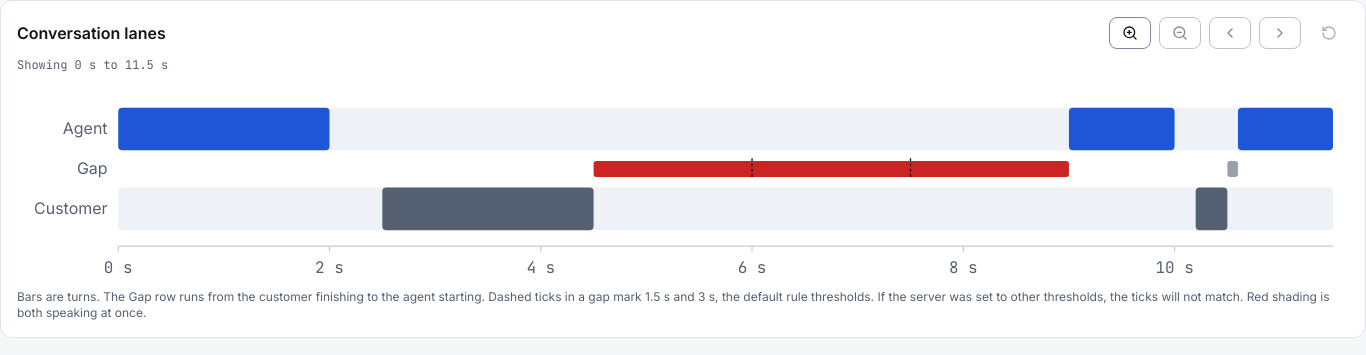
Test: Lanes › zooms in with the button and resets, enabling and disabling controls
Expected: the message reads "Showing 0 s to 11.5 s", [17,57,168,73]
Expected: the button named "Zoom out" is disabled, [1159,17,1201,49]
Click the button named "Zoom in": coordinates (1130, 33) [1109,17,1151,49]
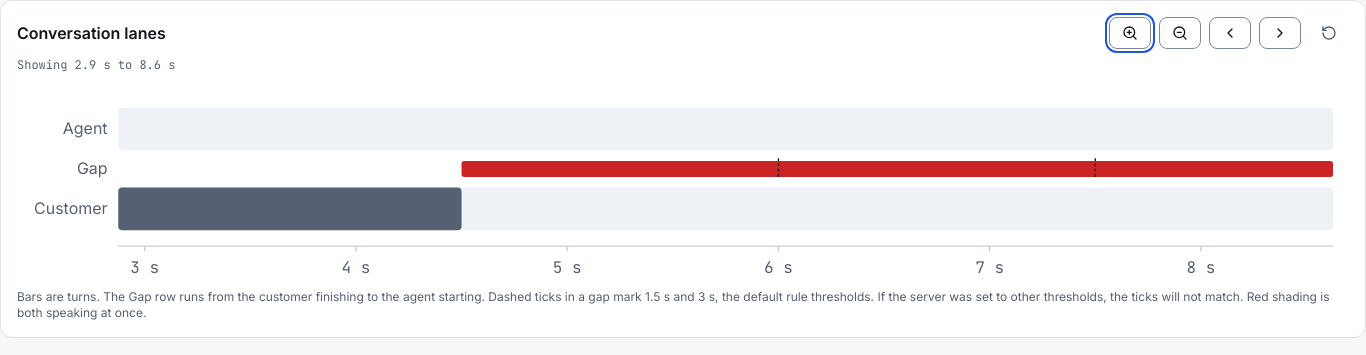
Now the message reads "Showing 2.9 s to 8.6 s", box [17,57,175,73]
Now the button named "Zoom out" is enabled, box [1159,17,1201,49]
Click the button named "Reset view": coordinates (1329, 33) [1309,17,1349,49]
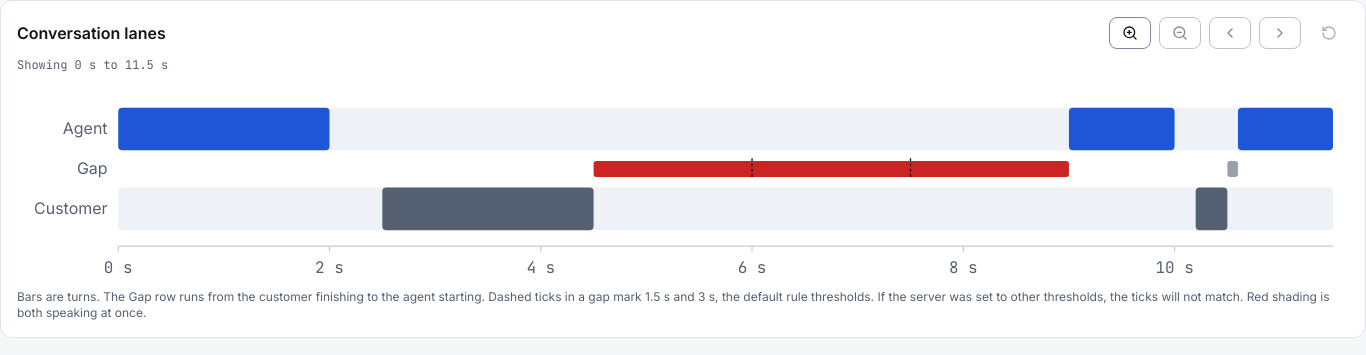
Now the message reads "Showing 0 s to 11.5 s", box [17,57,168,73]
